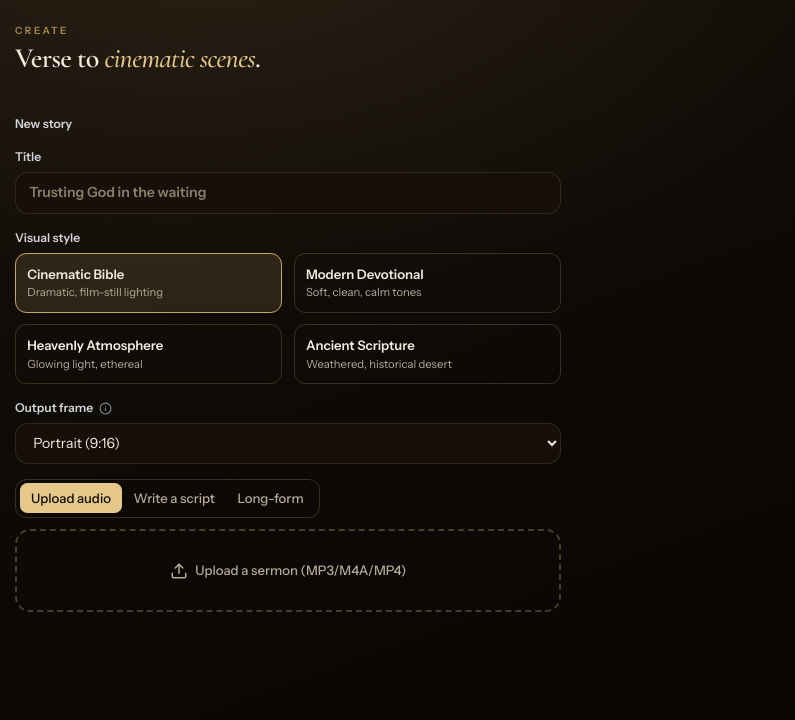
StoryVideoPage › switches to script mode and generates a voiceover, then shows the ready panel
Click the button "Write a script".
click(174, 498)  # box [122,484,226,514]
(page scrolled)
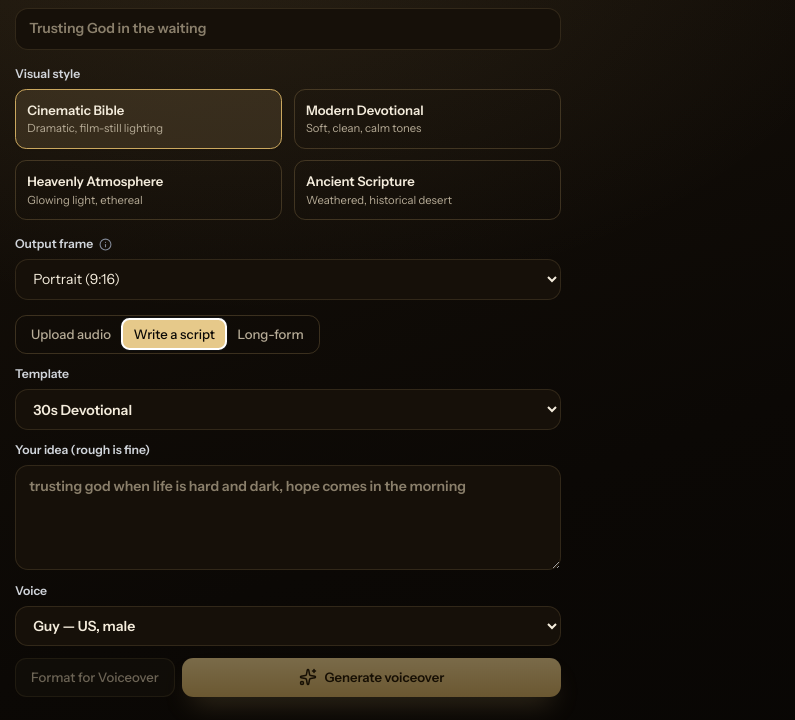
Type "hope in the morning" into the text box labelled "Your idea (rough is fine)".
click(288, 518); type("hope in the morning")  # box [15,465,561,570]
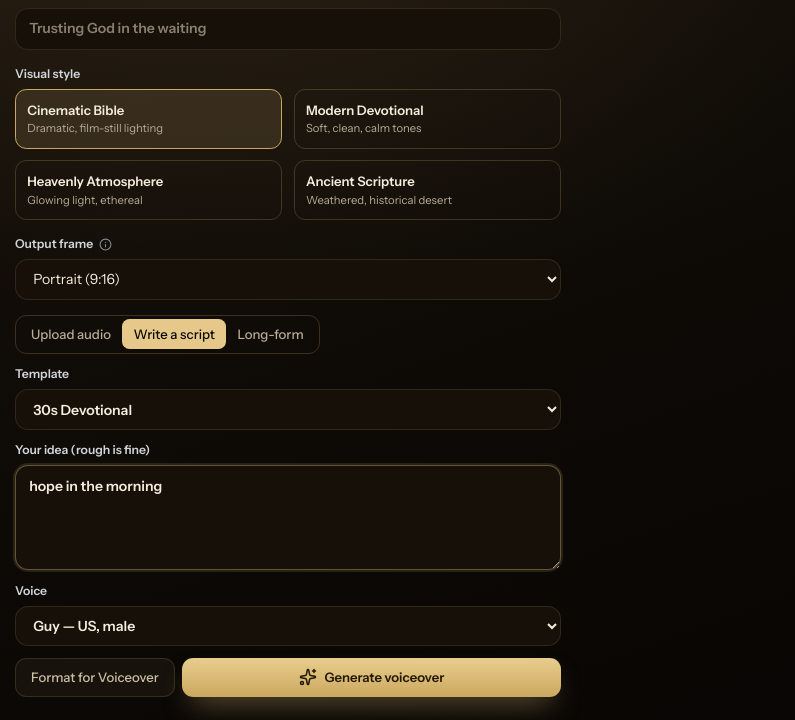
Click the button "Generate voiceover".
click(372, 677)  # box [182,658,561,697]
(page scrolled)
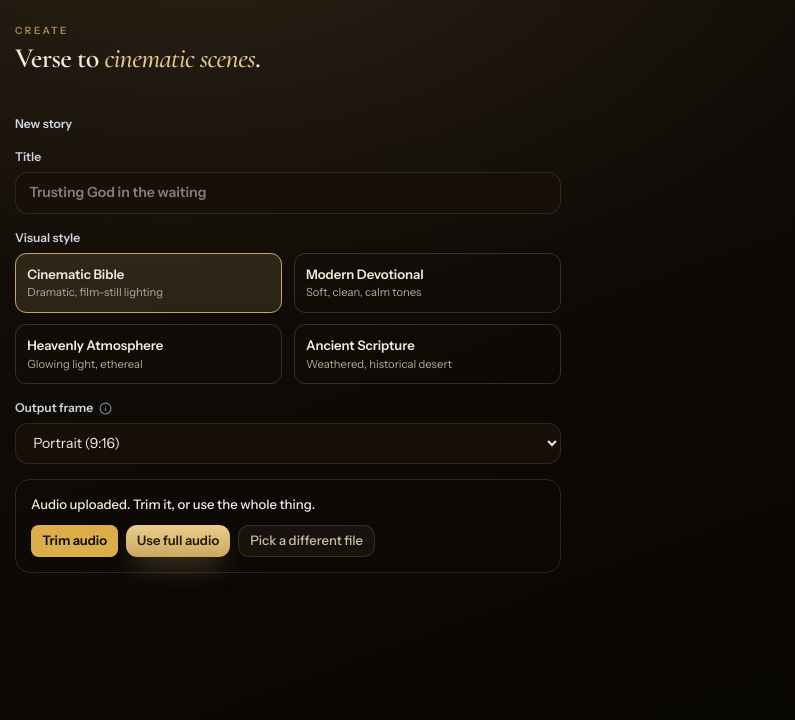
Result: the button "Use full audio" is shown at [126,525,230,557]
